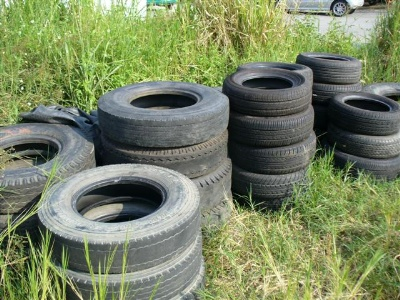tire: (37, 161, 201, 276), (33, 227, 204, 300), (1, 112, 94, 214), (94, 81, 231, 148), (100, 129, 230, 178), (222, 70, 313, 116), (227, 130, 318, 174), (226, 108, 316, 146), (329, 90, 400, 138), (228, 165, 314, 200), (294, 50, 362, 86), (325, 152, 400, 181), (328, 130, 400, 159)
